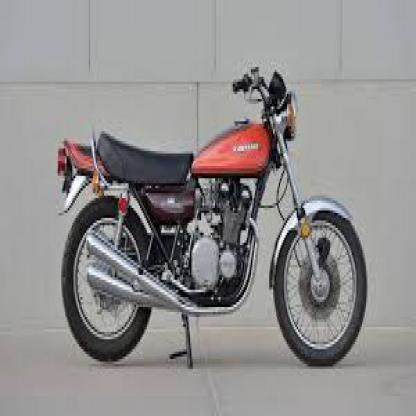Motorcycle: (48, 56, 372, 379)
